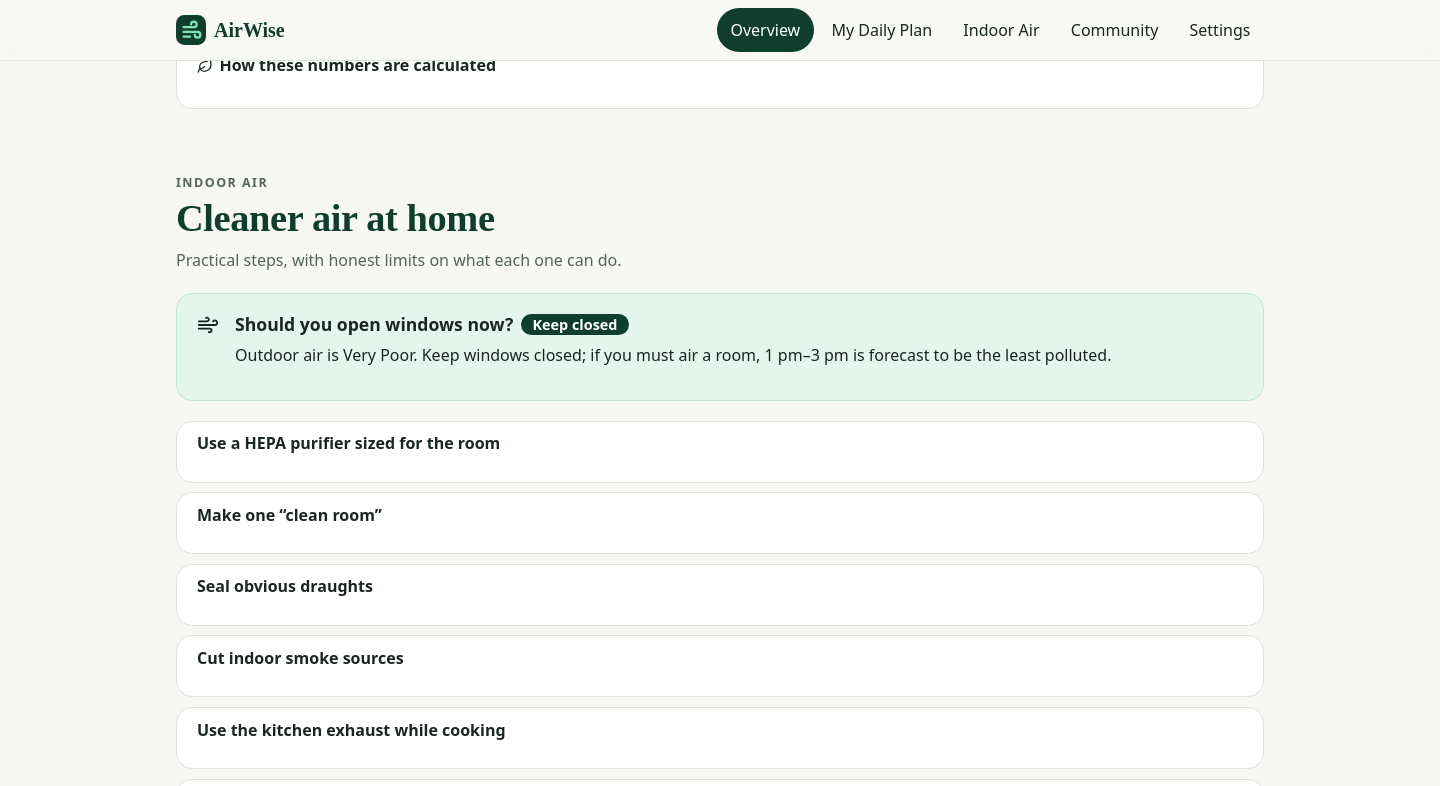
daily plan, indoor air, impact › opens an indoor hack with all required facts
(page scrolled)
Step 1. Click the heading "Use a HEPA purifier sized for the room" → click(349, 443), box [197, 432, 500, 454]
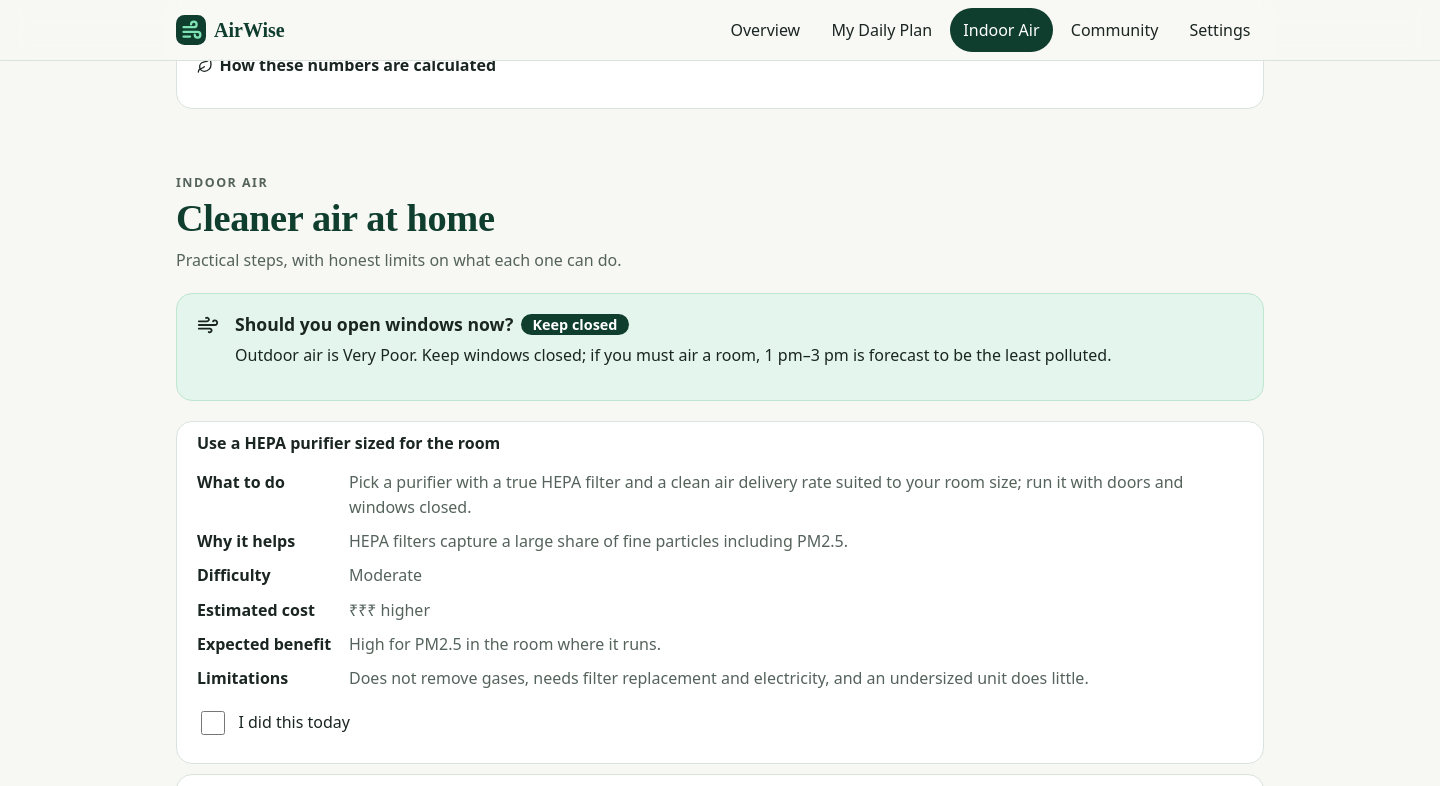
Expected: the text "What to do" is shown, [197, 471, 285, 493]
Expected: the text "Why it helps" is shown, [197, 530, 295, 552]
Expected: the text "Difficulty" is shown, [197, 564, 271, 586]
